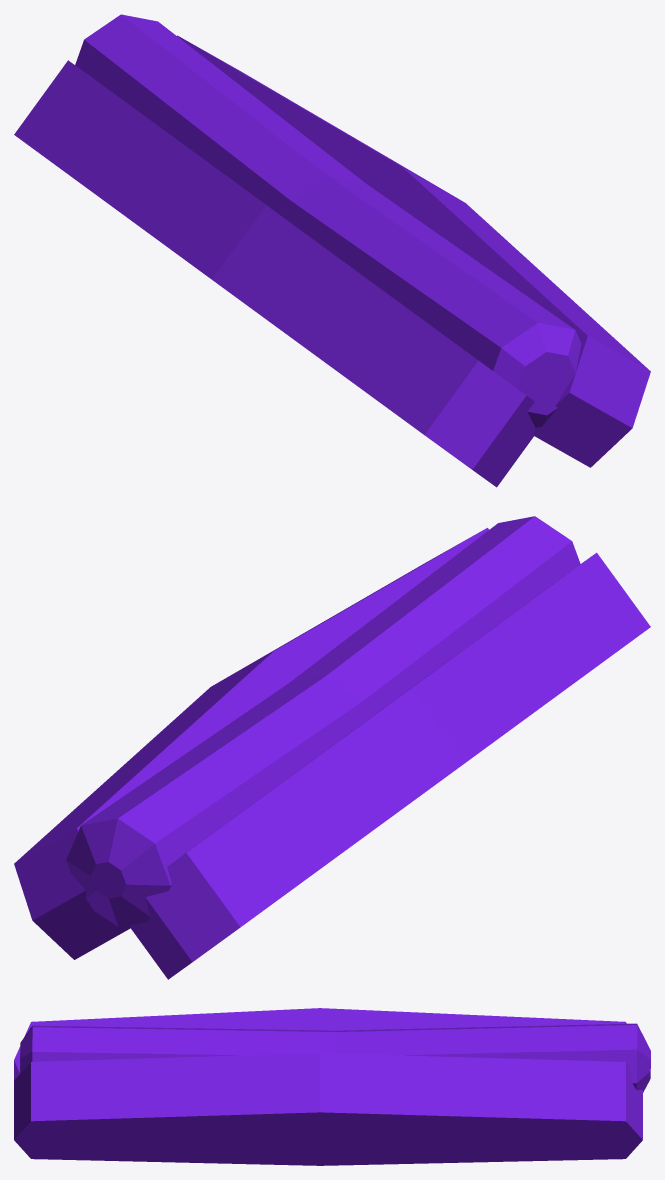
The model's file is Dog (1).glb.
The picture shows the model from 3 angles, top to bottom: view 1: azimuth 30°, elevation 25°; view 2: azimuth 150°, elevation 25°; view 3: azimuth 270°, elevation 25°; orthographic projection. The views are drawn at different scales.
Visible parts, largest first — view 1: Cylinder.002; view 2: Cylinder.002; view 3: Cylinder.002.
Part boxes in pixels (x1,y1,x2,y2): Cylinder.002: [14, 14, 650, 487]; Cylinder.002: [14, 516, 650, 979]; Cylinder.002: [14, 1008, 650, 1165].
Size of the model in its own units: 3.64 by 2.39 by 10.91.
